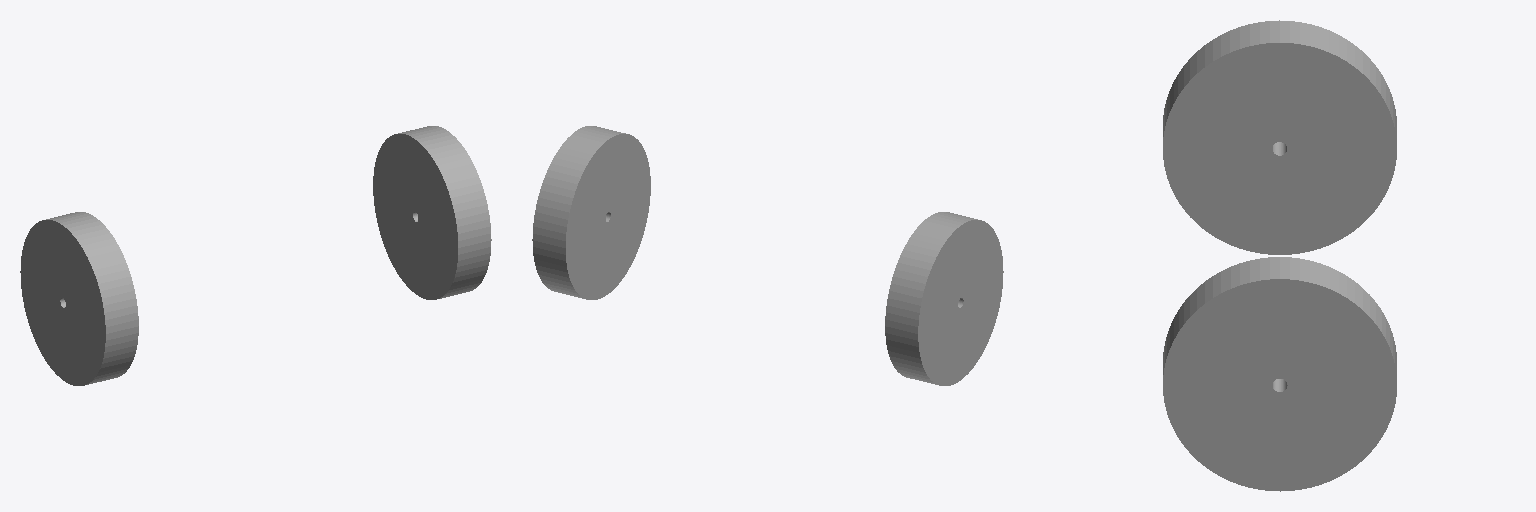
robot.urdf — twip:
<robot name="twip">
    <link name="body">
        <visual>
            <origin xyz="0 0 0" rpy="0 -0 0" />
            <geometry>
                <mesh filename="meshes/body_visual.stl" />
            </geometry>
            <material name="body_material">
                <color rgba="0.836159 0.803167 0.618468 1.0" />
            </material>
        </visual>
        <collision>
            <origin xyz="0 0 0" rpy="0 -0 0" />
            <geometry>
                <mesh filename="meshes/body_collision.stl" />
            </geometry>
            <material name="body_material">
                <color rgba="0.5 0.5 0.5 1.0" />
            </material>
        </collision>
        <inertial>
            <origin xyz="-0.0826102 -0.0762618 0.0883732" rpy="0 0 0" />
            <mass value="2.24123" />
            <inertia ixx="0.0305626" ixy="8.49821e-05" ixz="-0.00052591" iyy="0.0378459" iyz="-7.78686e-05" izz="0.0115403" />
        </inertial>
    </link>

    <link name="left_wheel">
        <visual>
            <origin xyz="0 0 0" rpy="0 -0 0" />
            <geometry>
                <mesh filename="meshes/left_wheel_visual.stl" />
            </geometry>
            <material name="left_wheel_material">
                <color rgba="0.701961 0.701961 0.701961 1.0" />
            </material>
        </visual>
        <collision>
            <origin xyz="0 0 0" rpy="0 -0 0" />
            <geometry>
                <mesh filename="meshes/left_wheel_collision.stl" />
            </geometry>
            <material name="left_wheel_material">
                <color rgba="0.5 0.5 0.5 1.0" />
            </material>
        </collision>
        <inertial>
            <origin xyz="-3.71533e-18 0 -0.014" rpy="0 0 0" />
            <mass value="0.190998" />
            <inertia ixx="0.000227519" ixy="-2.48322e-45" ixz="1.98553e-36" iyy="0.000435834" iyz="-9.62881e-37" izz="0.000227519" />
        </inertial>
    </link>

    <joint name="lwheel" type="revolute">
        <origin xyz="0.0509238 -0.0784359 -0.0289244" rpy="-3.14159 1.5708 0" />
        <parent link="body" />
        <child link="left_wheel" />
        <axis xyz="0 0 1" />
        <limit effort="1" velocity="20" />
        <joint_properties friction="0.0" />
    </joint>

    <link name="right_wheel">
        <visual>
            <origin xyz="0 0 0" rpy="0 -0 0" />
            <geometry>
                <mesh filename="meshes/right_wheel_visual.stl" />
            </geometry>
            <material name="right_wheel_material">
                <color rgba="0.701961 0.701961 0.701961 1.0" />
            </material>
        </visual>
        <collision>
            <origin xyz="0 0 0" rpy="0 -0 0" />
            <geometry>
                <mesh filename="meshes/right_wheel_collision.stl" />
            </geometry>
            <material name="right_wheel_material">
                <color rgba="0.5 0.5 0.5 1.0" />
            </material>
        </collision>
        <inertial>
            <origin xyz="-3.71533e-18 0 -0.014" rpy="0 0 0" />
            <mass value="0.190998" />
            <inertia ixx="0.000227519" ixy="-1.1483e-46" ixz="1.40219e-36" iyy="0.000435834" iyz="1.67541e-35" izz="0.000227519" />
        </inertial>
    </link>

    <joint name="rwheel" type="revolute">
        <origin xyz="-0.219373 -0.078494 -0.0289244" rpy="1.66533e-16 1.5708 0" />
        <parent link="body" />
        <child link="right_wheel" />
        <axis xyz="0 0 -1" />
        <limit effort="1" velocity="20" />
        <joint_properties friction="0.0" />
    </joint>


</robot>

--- What the picture shows (computed from the rendered views, not written in the file) ---
The picture shows the robot from 3 angles, left to right: view 1: azimuth 30°, elevation 25°; view 2: azimuth 150°, elevation 25°; view 3: azimuth 270°, elevation 25°; orthographic projection.
Robot: twip — 3 links, 2 joints (2 revolute); root link body; default pose: every joint at zero.
Links seen in each view (by area): view 1: left_wheel, right_wheel; view 2: left_wheel, right_wheel; view 3: left_wheel, right_wheel.
Boxes of the visible links, bbox=[...] form: left_wheel: bbox=[373, 126, 491, 299]; right_wheel: bbox=[20, 212, 138, 385]; left_wheel: bbox=[532, 126, 650, 299]; right_wheel: bbox=[885, 212, 1003, 385]; left_wheel: bbox=[1163, 257, 1396, 491]; right_wheel: bbox=[1163, 20, 1396, 254].
Bounding box of the posed robot: 0.3263 × 0.1251 × 0.125 m (x, y, z).
2 mesh visuals loaded from 3 distinct referenced files (2 binary STL); not drawn: 1 (reference not matched to a file when rendering).